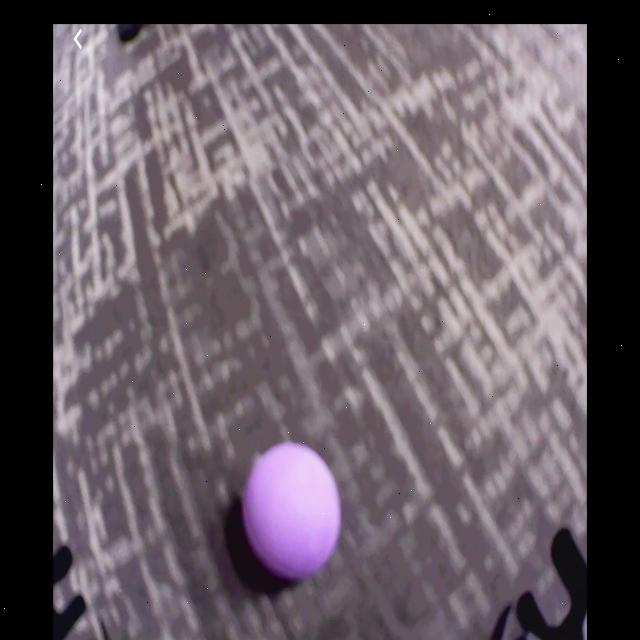ball: (244, 445, 343, 576)
